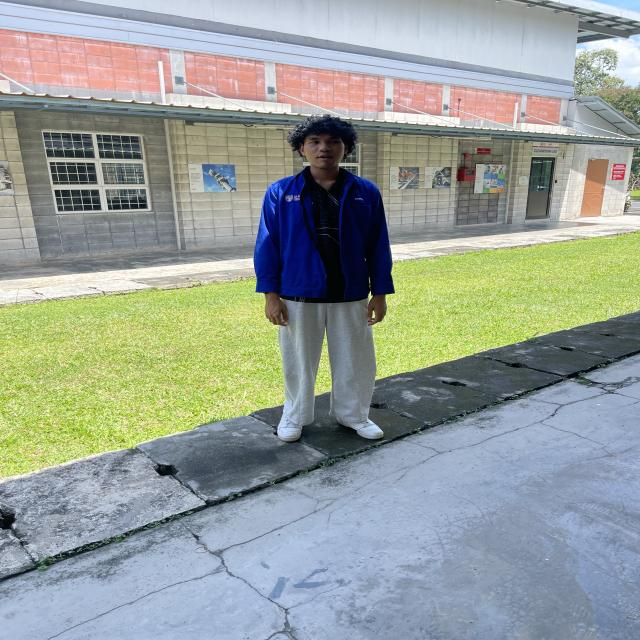person_with_labcoat: (254, 115, 394, 442)
